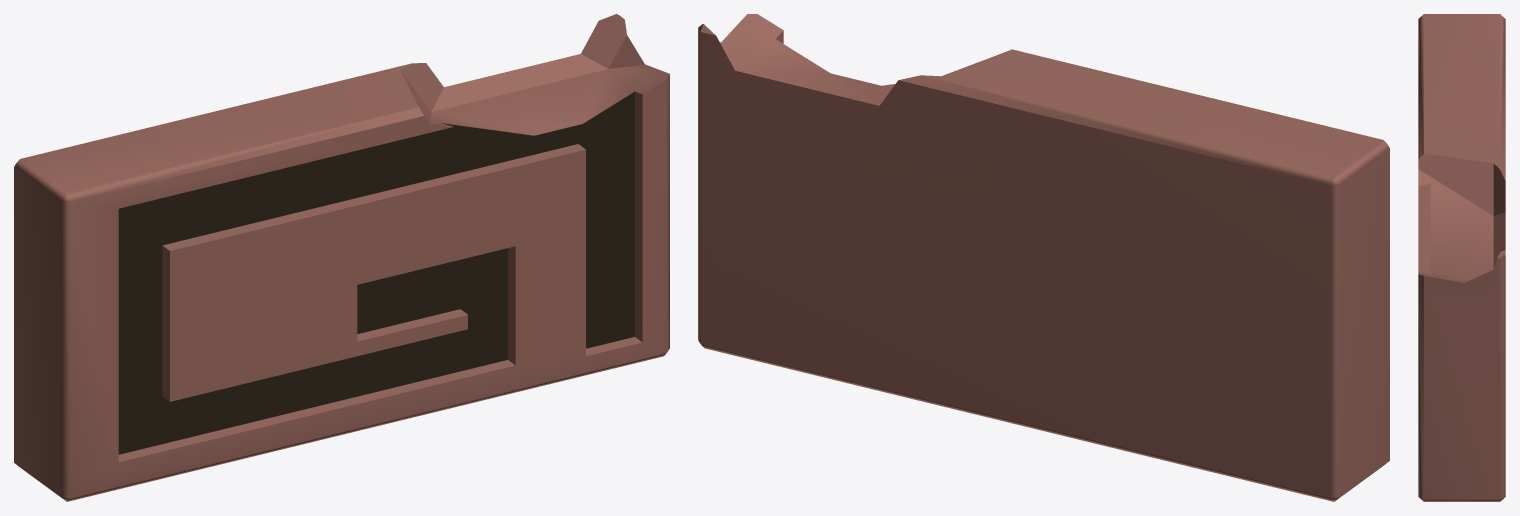
File: SM_muretto1.fbx
3 views of the same model, side by side, from view 1: azimuth 30°, elevation 25°; view 2: azimuth 150°, elevation 25°; view 3: azimuth 270°, elevation 25° (orthographic). The views are drawn at different scales.
Visible parts, largest first — view 1: pCube63; view 2: pCube63; view 3: pCube63.
Part boxes in pixels (x1,y1,x2,y2): pCube63: (14,14,669,501); pCube63: (698,14,1389,501); pCube63: (1418,14,1505,501).
Size of the model in its own units: 3.61 by 1.75 by 0.5535.
